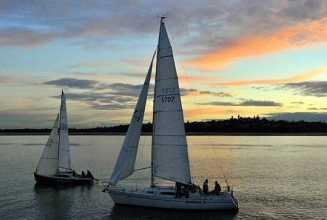fanchuan: (103, 22, 243, 201), (30, 91, 97, 188)
